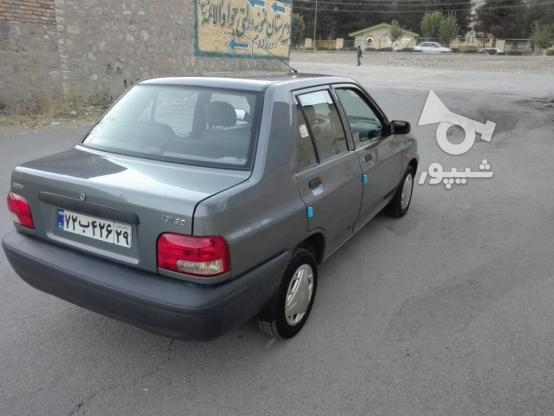car: (54, 203, 134, 247)
